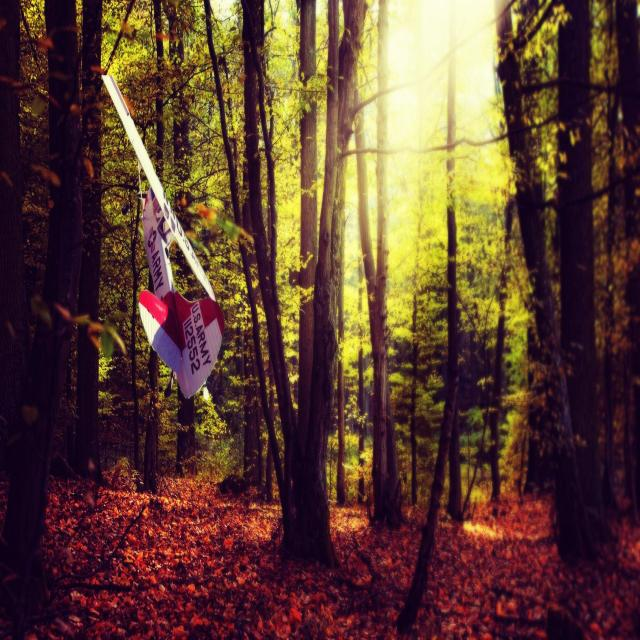airplane: (99, 68, 224, 400)
